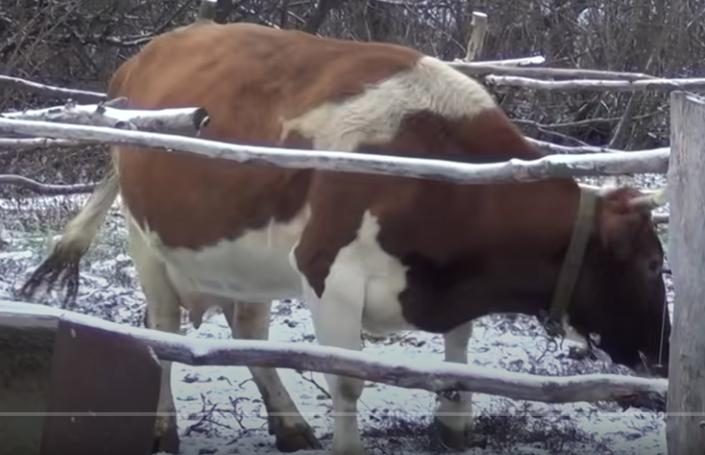cow: (19, 20, 671, 448)
